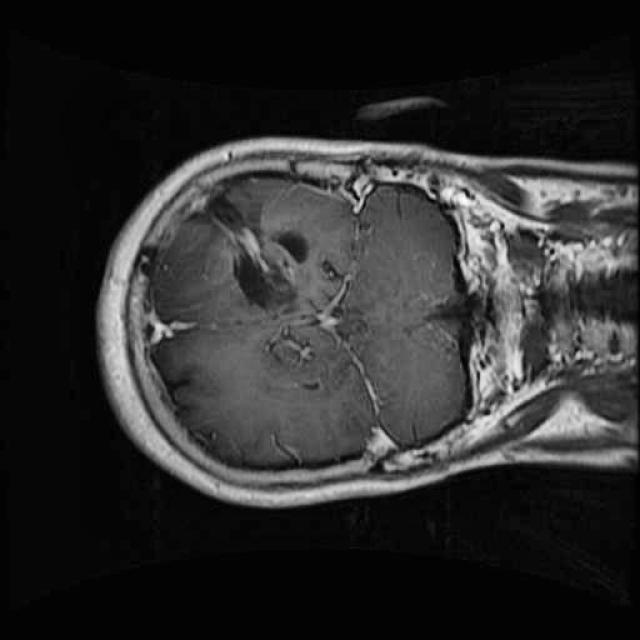Non-Tumor: (208, 204, 335, 316)
